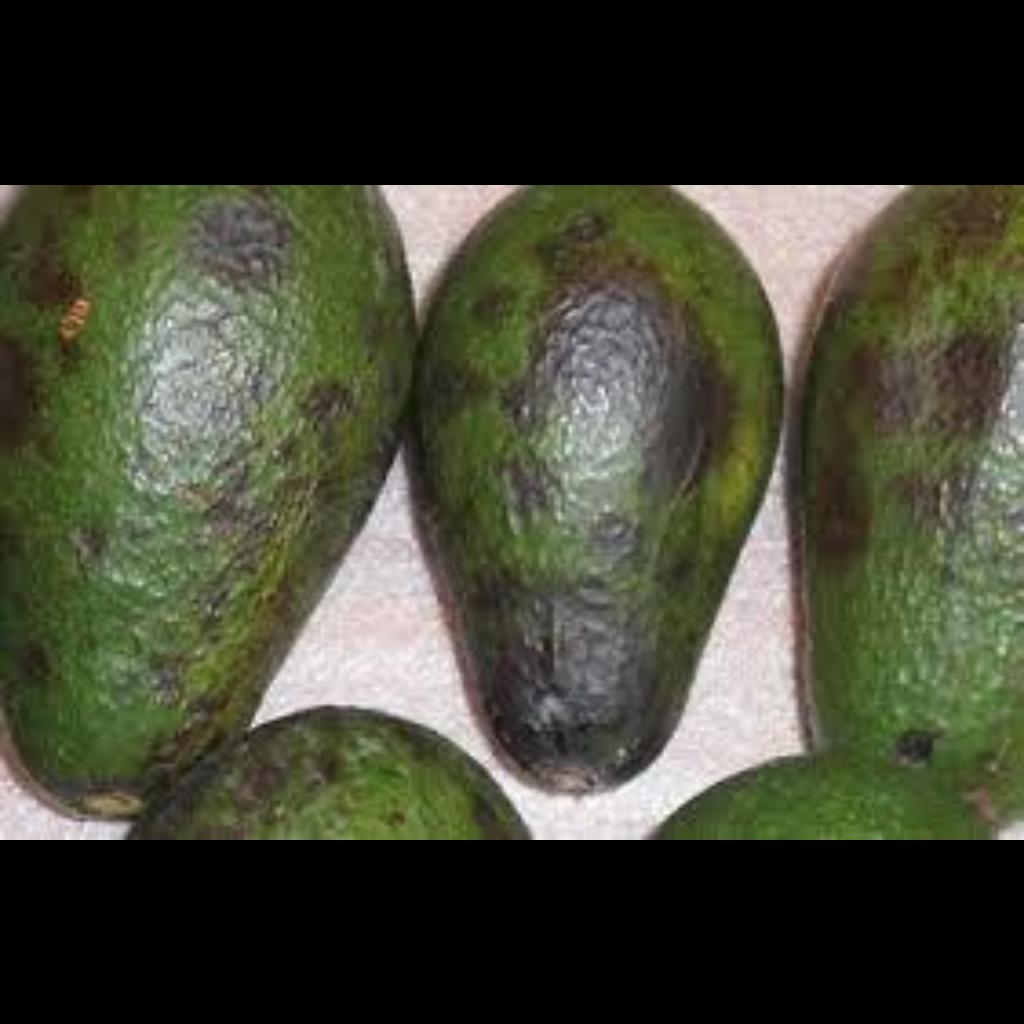antracnosis_fruto: (446, 234, 712, 751), (155, 198, 341, 541), (847, 242, 1007, 508)
